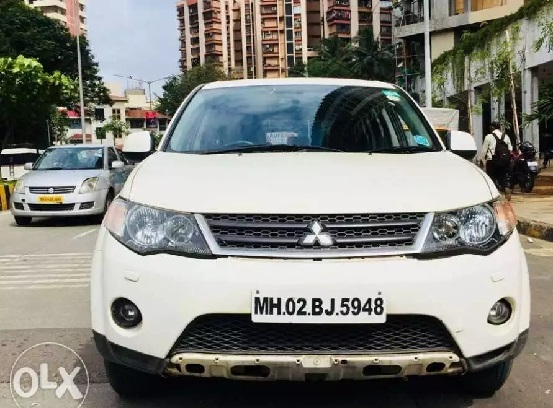licenseplate: (250, 282, 389, 329)
